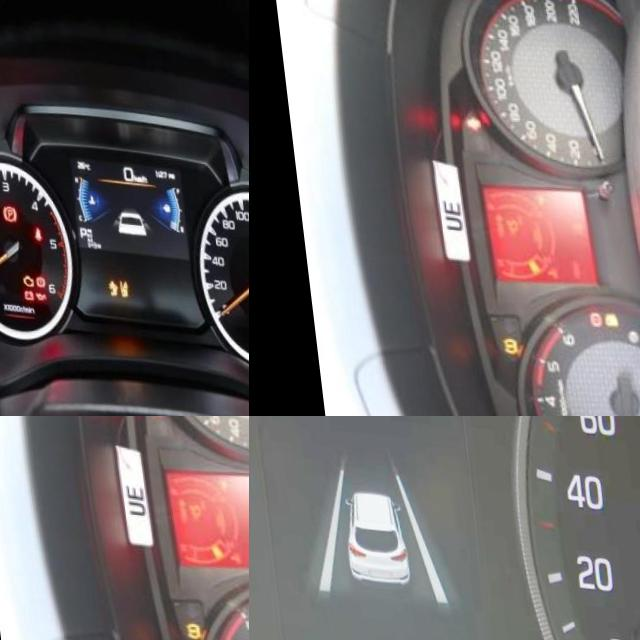Seat Belt: (27, 221, 35, 237)
